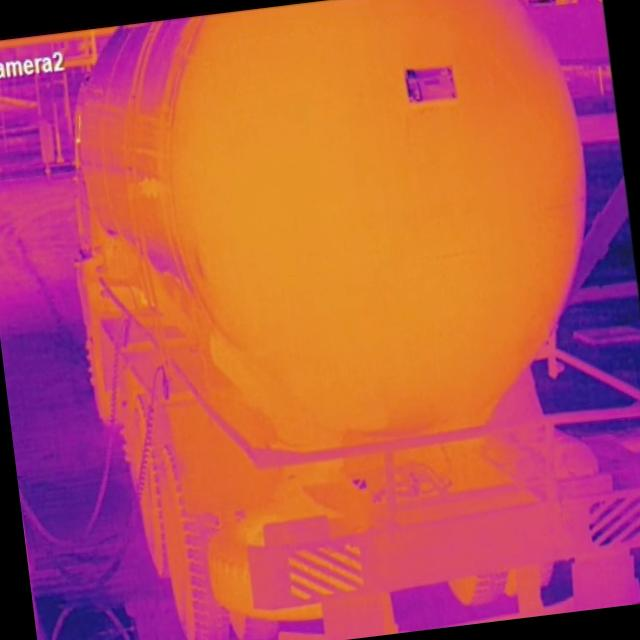tank: (151, 0, 612, 453)
